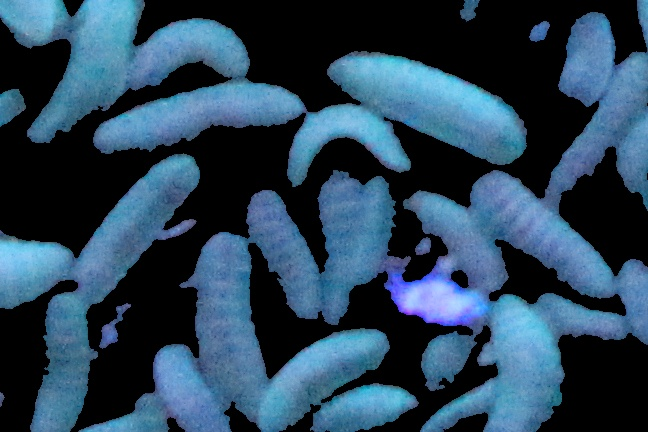larvae: (320, 52, 527, 162), (71, 154, 200, 308), (474, 169, 613, 295), (29, 1, 143, 144), (90, 82, 303, 154), (549, 50, 648, 199), (256, 329, 388, 432), (194, 232, 264, 405), (322, 180, 395, 322), (287, 102, 410, 186), (492, 296, 567, 431), (407, 191, 508, 291), (246, 192, 322, 317), (31, 292, 88, 432), (127, 24, 256, 80), (146, 351, 235, 432), (1, 228, 71, 310), (310, 383, 416, 432), (561, 15, 616, 106), (539, 297, 631, 341), (611, 119, 648, 205), (317, 177, 360, 251), (616, 259, 648, 349)
